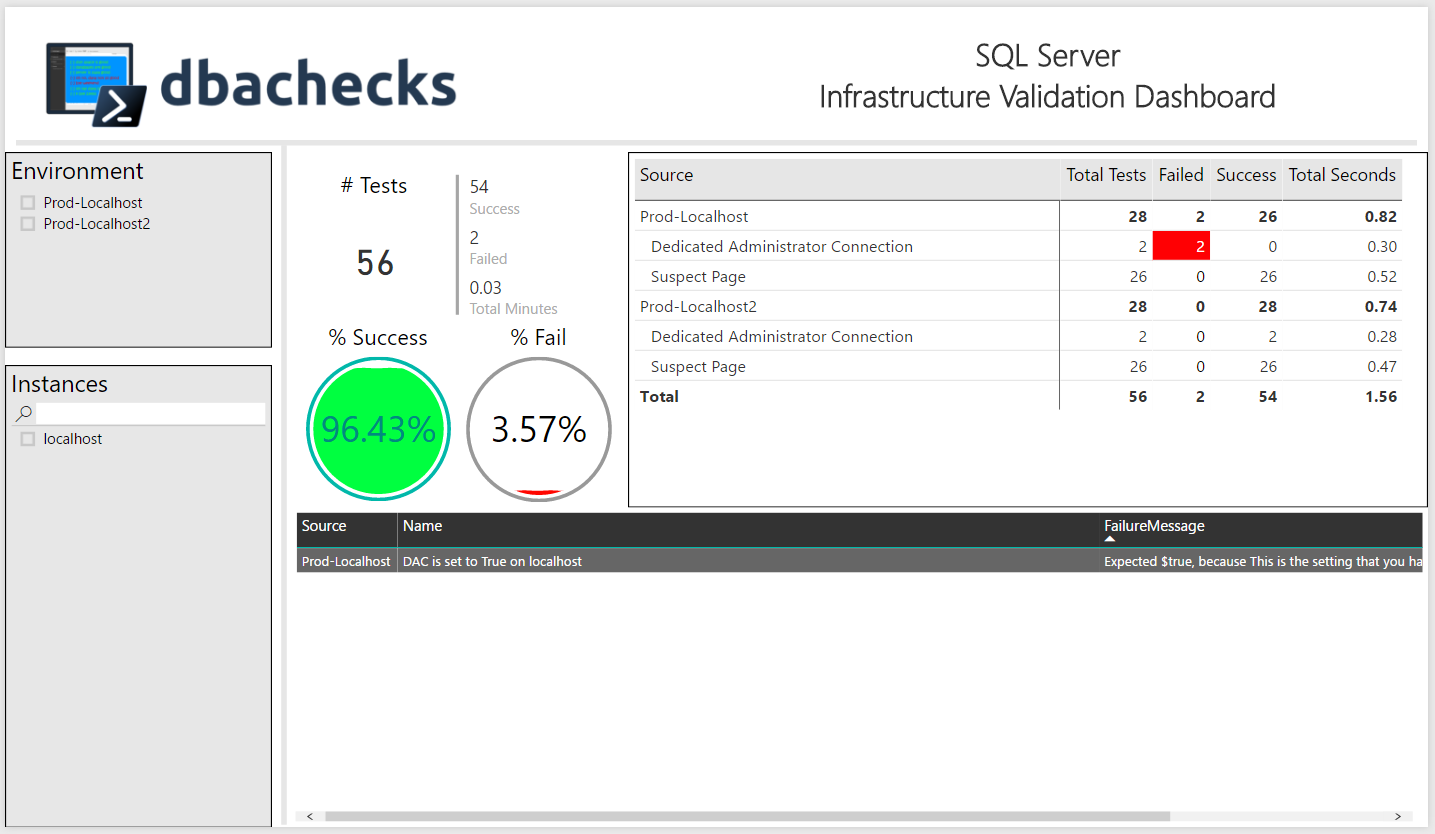

What the dashboard file says about the page in this screenshot:
{"tool":"powerbi","page":{"name":"By Environment","canvas":[1280,720],"ordinal":0},"visuals":[{"type":"pivotTable","fields":{"Rows":["Results.Source","Results.Describe","Results.Context"],"Values":["Results.NumberTests","Results.Failed Count","Results.Successed Count","Results.TotalSec"]},"box":[560,112,720,320],"z":1},{"type":"slicer","fields":{"Values":["Results.Source"]},"box":[0,112,240,176],"z":2},{"type":"tableEx","fields":{"Values":["Results.Source","Results.Name","Results.FailureMessage"]},"box":[256,432,1024,288],"z":3},{"type":"card","fields":{"Values":["Results.NumberTests"]},"box":[256,128,152,136],"z":4},{"type":"PBI_CV_94E55AB3_5D45_4B62_A49D_19E2109AA028","fields":{"value":["Results.% Success"]},"box":[256,264.7,160,168],"z":5},{"type":"PBI_CV_94E55AB3_5D45_4B62_A49D_19E2109AA028","fields":{"value":["Results.% Fail"]},"box":[400,264.7,160,168],"z":6},{"type":"multiRowCard","fields":{"Values":["Results.Successed Count","Results.Failed Count","Results.TotalMin"]},"box":[400,128,160,136],"z":7},{"type":"basicShape","box":[227,96,48,624],"z":8},{"type":"image","box":[0,4.5,443,92.2],"z":12},{"type":"slicer","fields":{"Values":["Results.Instance"]},"box":[0,304,240,416],"z":13},{"type":"textbox","box":[597.6,0,682.4,93.7],"z":14},{"type":"basicShape","box":[0,80,1280,48],"z":14}]}

Visuals, with their boxes on the page's 1280x720 design canvas (x1, y1, x2, y2). These are canvas units, not pixel positions in the 1435x834 screenshot, which may show the page scaled, cropped or inside an application window:
pivotTable - Results.Source x Results.Describe: {"x1": 560, "y1": 112, "x2": 1280, "y2": 432}
slicer - Results.Source: {"x1": 0, "y1": 112, "x2": 240, "y2": 288}
tableEx - Results.Source x Results.Name: {"x1": 256, "y1": 432, "x2": 1280, "y2": 720}
card - Results.NumberTests: {"x1": 256, "y1": 128, "x2": 408, "y2": 264}
PBI_CV_94E55AB3_5D45_4B62_A49D_19E2109AA028 - Results.% Success: {"x1": 256, "y1": 265, "x2": 416, "y2": 433}
PBI_CV_94E55AB3_5D45_4B62_A49D_19E2109AA028 - Results.% Fail: {"x1": 400, "y1": 265, "x2": 560, "y2": 433}
multiRowCard - Results.Successed Count x Results.Failed Count: {"x1": 400, "y1": 128, "x2": 560, "y2": 264}
basicShape: {"x1": 227, "y1": 96, "x2": 275, "y2": 720}
image: {"x1": 0, "y1": 4, "x2": 443, "y2": 97}
slicer - Results.Instance: {"x1": 0, "y1": 304, "x2": 240, "y2": 720}
textbox: {"x1": 598, "y1": 0, "x2": 1280, "y2": 94}
basicShape: {"x1": 0, "y1": 80, "x2": 1280, "y2": 128}
